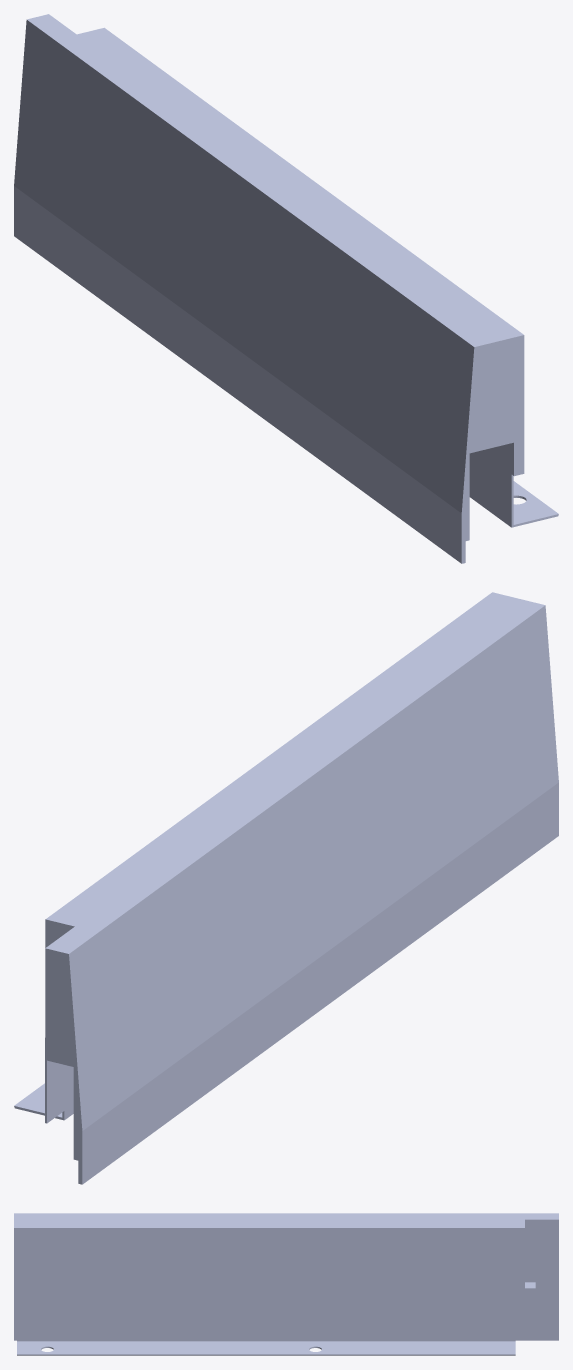
Rendered from mv-kava-N270-p.glb.
3 renders of one model, top to bottom at view 1: azimuth 30°, elevation 25°; view 2: azimuth 150°, elevation 25°; view 3: azimuth 270°, elevation 25°, orthographic. The views are drawn at different scales.
Visible parts, largest first — view 1: 46441233; view 2: 46441233; view 3: 46441233.
Boxes of the visible parts, x1,y1,x2,y2 form: 46441233: [14, 14, 558, 563]; 46441233: [14, 592, 558, 1184]; 46441233: [14, 1213, 558, 1355].
Bounding box in the file's own units: 0.0335 × 0.0685 × 0.2602.
